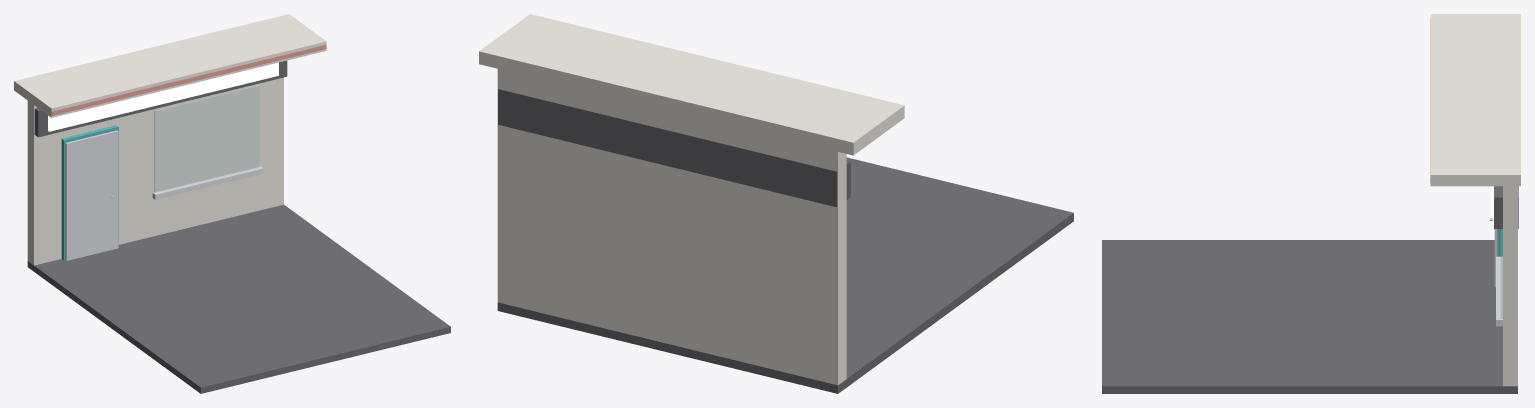
Rendered from retro-diner-and-roadside-motel-motel-office-front-bc48909b__37351.glb.
3 renders of one model, left to right at view 1: azimuth 30°, elevation 25°; view 2: azimuth 150°, elevation 25°; view 3: azimuth 270°, elevation 25°, orthographic. The views are drawn at different scales.
Visible parts, largest first — view 1: motel-office-front-asphalt, motel-office-front-cream, motel-office-front-glass, door/chrome, motel-office-front-neon, motel-office-front-coral, motel-office-front-turquoise, motel-office-front-chrome; view 2: motel-office-front-cream, motel-office-front-asphalt; view 3: motel-office-front-asphalt, motel-office-front-cream, motel-office-front-chrome.
Boxes of the visible parts, x1=… form: motel-office-front-asphalt: x1=27, y1=60, x2=450, y2=393; motel-office-front-cream: x1=14, y1=14, x2=326, y2=265; motel-office-front-glass: x1=154, y1=85, x2=259, y2=192; door/chrome: x1=65, y1=130, x2=118, y2=260; motel-office-front-neon: x1=48, y1=62, x2=278, y2=131; motel-office-front-coral: x1=52, y1=45, x2=326, y2=115; motel-office-front-turquoise: x1=61, y1=125, x2=118, y2=260; motel-office-front-chrome: x1=152, y1=166, x2=263, y2=199; motel-office-front-cream: x1=479, y1=14, x2=904, y2=385; motel-office-front-asphalt: x1=497, y1=89, x2=1073, y2=393; motel-office-front-asphalt: x1=1102, y1=186, x2=1518, y2=393; motel-office-front-cream: x1=1430, y1=14, x2=1520, y2=386; motel-office-front-chrome: x1=1496, y1=256, x2=1502, y2=326.
Bounding box in the file's own units: 5.5 × 3.6 × 6.04.
